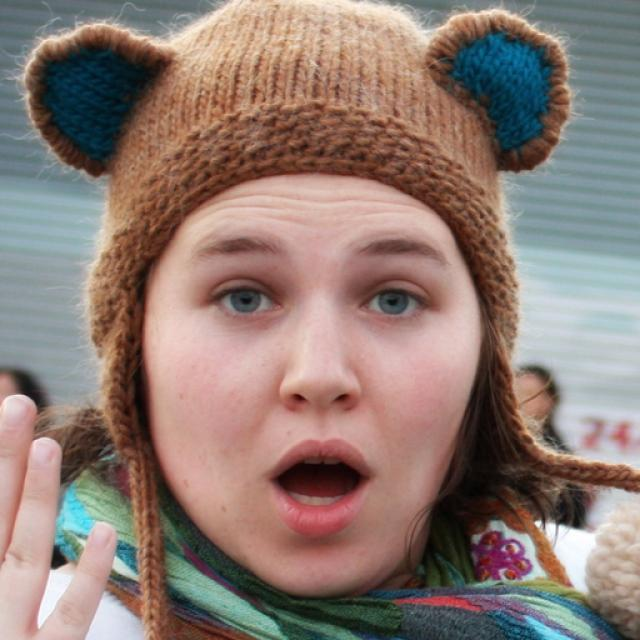surprise: (146, 168, 483, 592)
